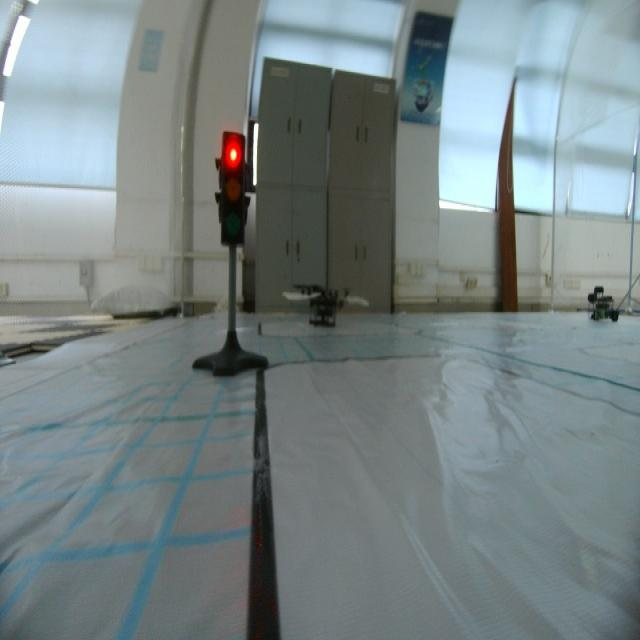red: (217, 127, 254, 250)
